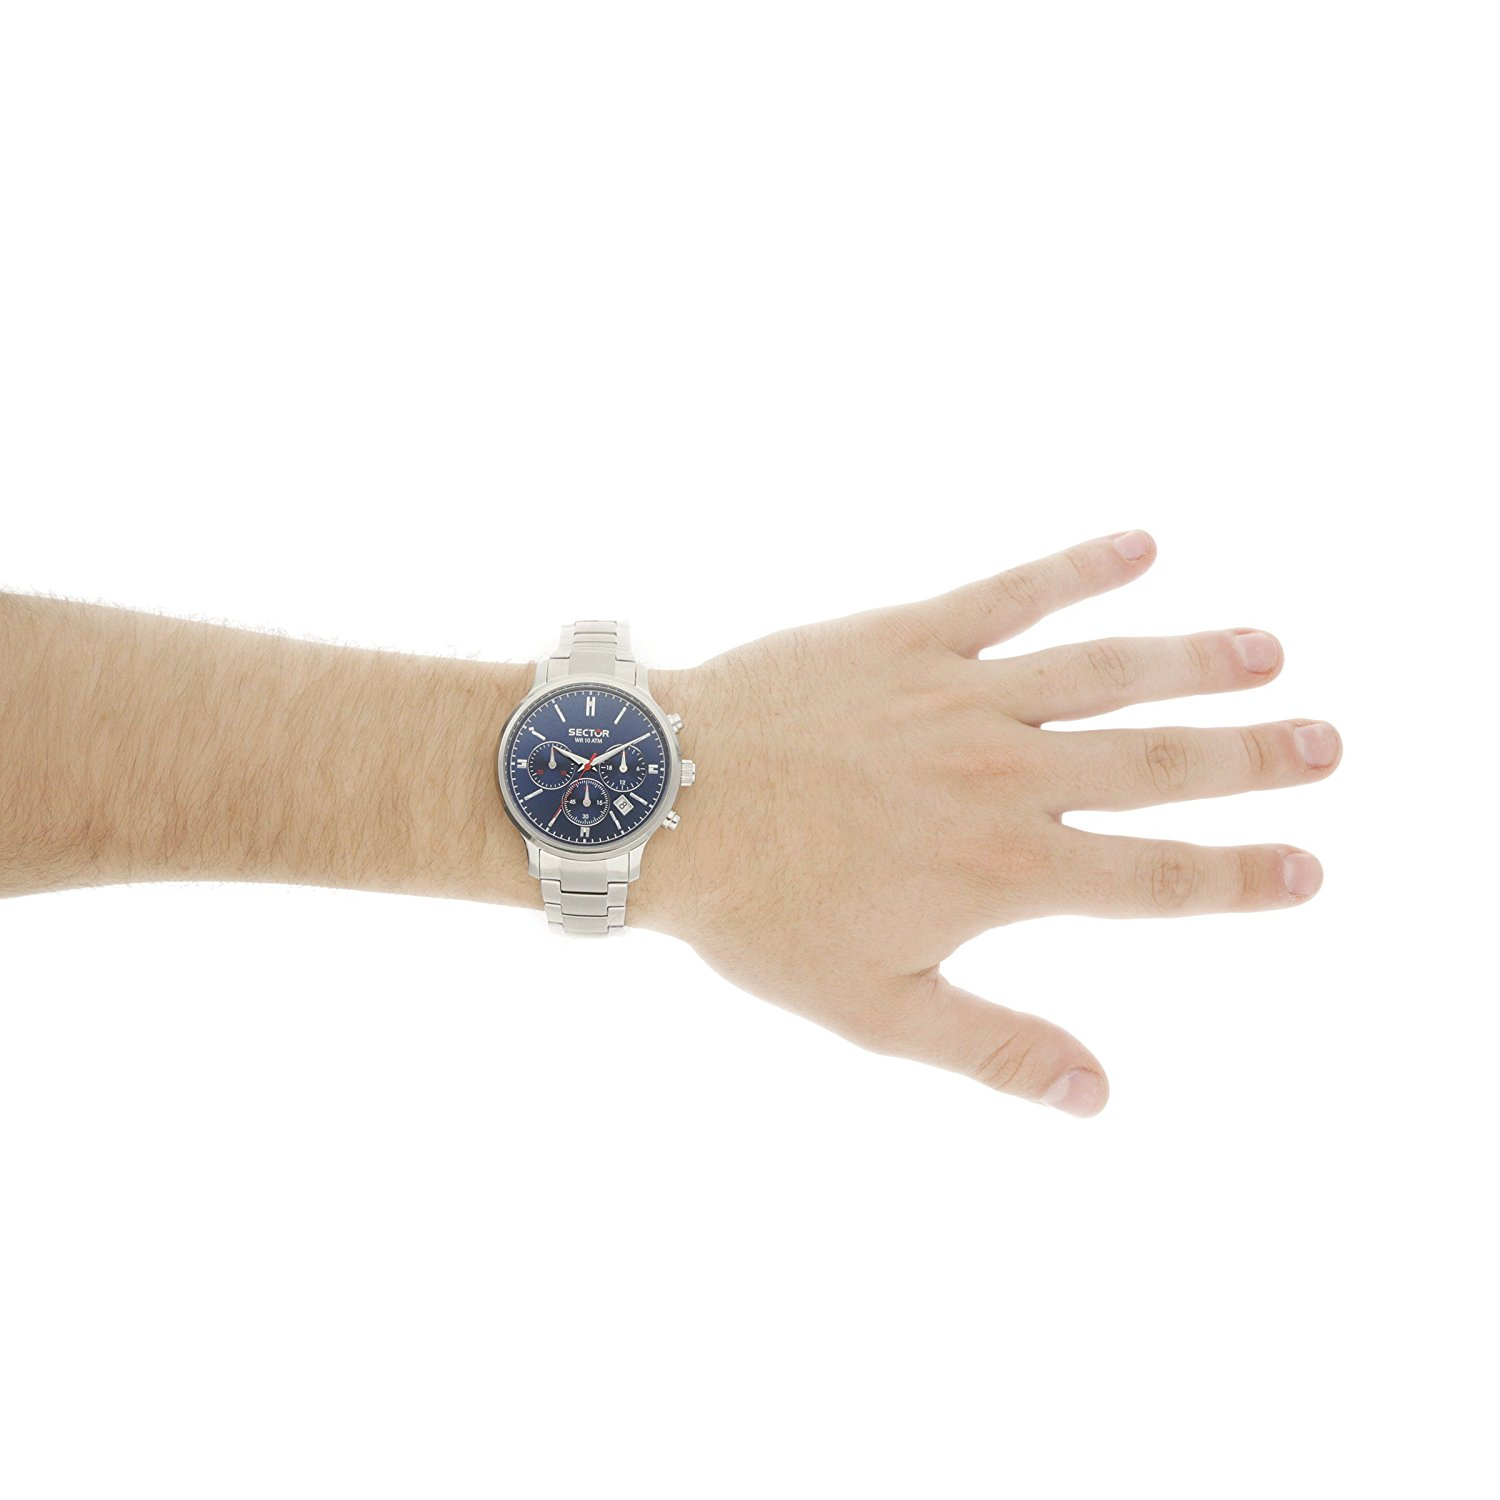clock: (510, 685, 668, 848)
